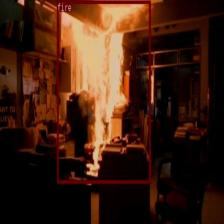fire: (57, 0, 150, 183)
